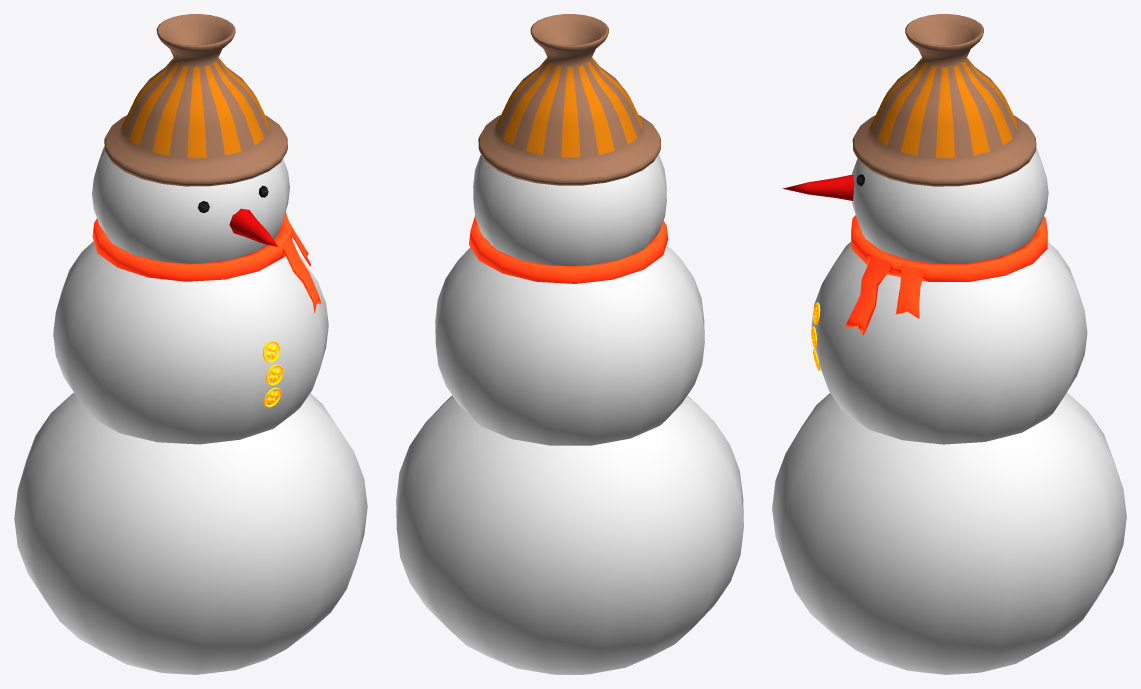
File: PA_Snowmanset1_Snowman3_CROP.fbx
3 renders of one model, left to right at view 1: azimuth 30°, elevation 25°; view 2: azimuth 150°, elevation 25°; view 3: azimuth 270°, elevation 25°, orthographic.
Parts seen in each view (by area): view 1: PA_Snowmanset1_Snowman3.004, PA_Snowmanset1_Snowman3.003, PA_Snowmanset1_Snowman3.001, PA_Snowmanset1_Snowman3.002; view 2: PA_Snowmanset1_Snowman3.004, PA_Snowmanset1_Snowman3.003, PA_Snowmanset1_Snowman3.002, PA_Snowmanset1_Snowman3.001; view 3: PA_Snowmanset1_Snowman3.004, PA_Snowmanset1_Snowman3.003, PA_Snowmanset1_Snowman3.001, PA_Snowmanset1_Snowman3.002.
Part boxes in pixels (x1=…): PA_Snowmanset1_Snowman3.004: x1=14, y1=392, x2=367, y2=674; PA_Snowmanset1_Snowman3.003: x1=53, y1=241, x2=328, y2=444; PA_Snowmanset1_Snowman3.001: x1=92, y1=146, x2=321, y2=313; PA_Snowmanset1_Snowman3.002: x1=104, y1=14, x2=287, y2=186; PA_Snowmanset1_Snowman3.004: x1=396, y1=395, x2=743, y2=674; PA_Snowmanset1_Snowman3.003: x1=435, y1=245, x2=704, y2=445; PA_Snowmanset1_Snowman3.002: x1=478, y1=14, x2=660, y2=185; PA_Snowmanset1_Snowman3.001: x1=469, y1=154, x2=668, y2=283; PA_Snowmanset1_Snowman3.004: x1=772, y1=392, x2=1126, y2=674; PA_Snowmanset1_Snowman3.003: x1=811, y1=242, x2=1087, y2=444; PA_Snowmanset1_Snowman3.001: x1=783, y1=148, x2=1048, y2=335; PA_Snowmanset1_Snowman3.002: x1=852, y1=14, x2=1036, y2=186.
Size of the model in its own units: 78.58 by 154 by 78.62.
